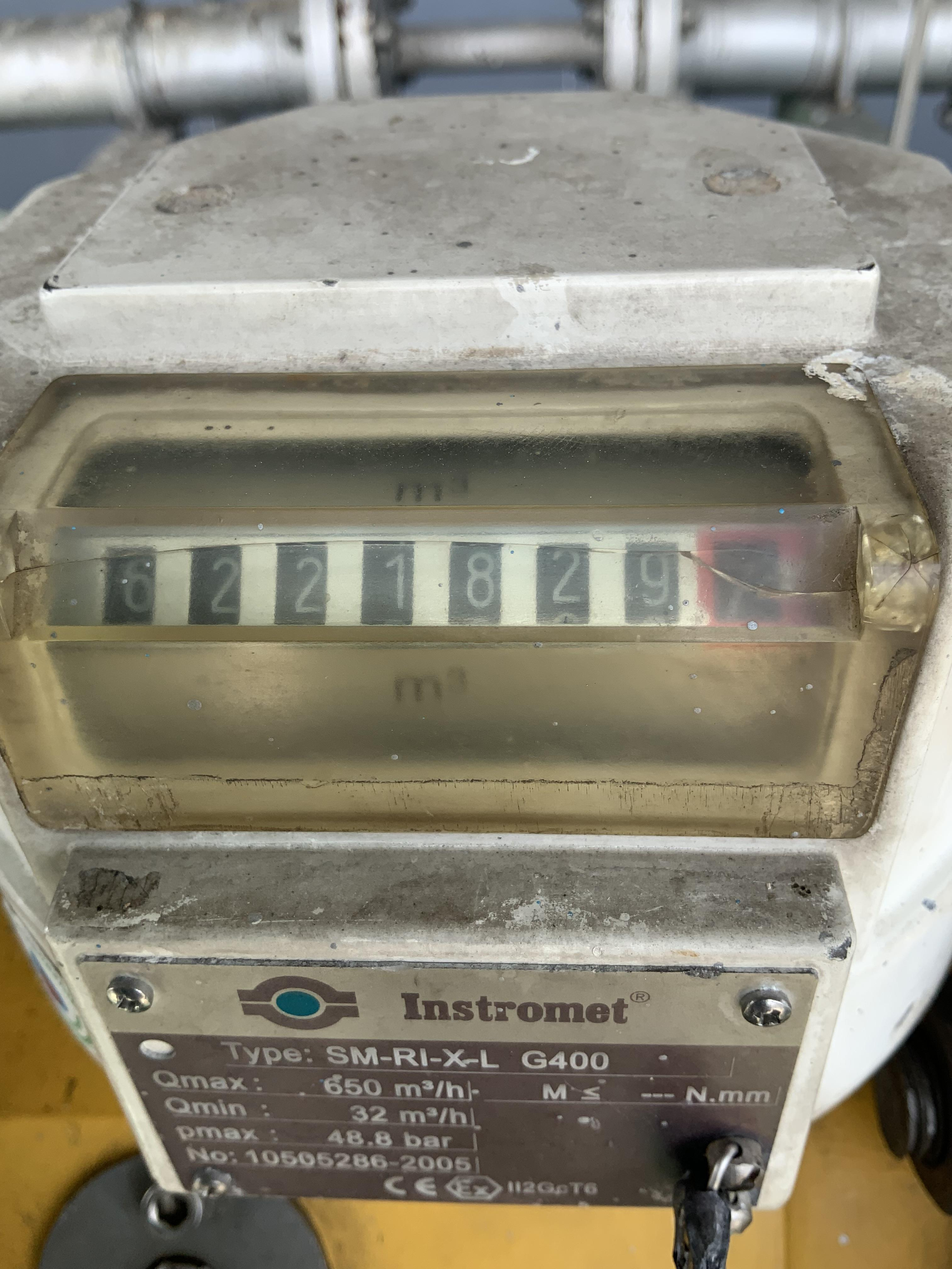analog_dial: (49, 523, 841, 626)
